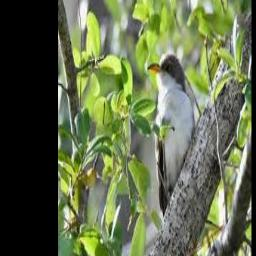Cuckoo: (147, 52, 195, 217)
